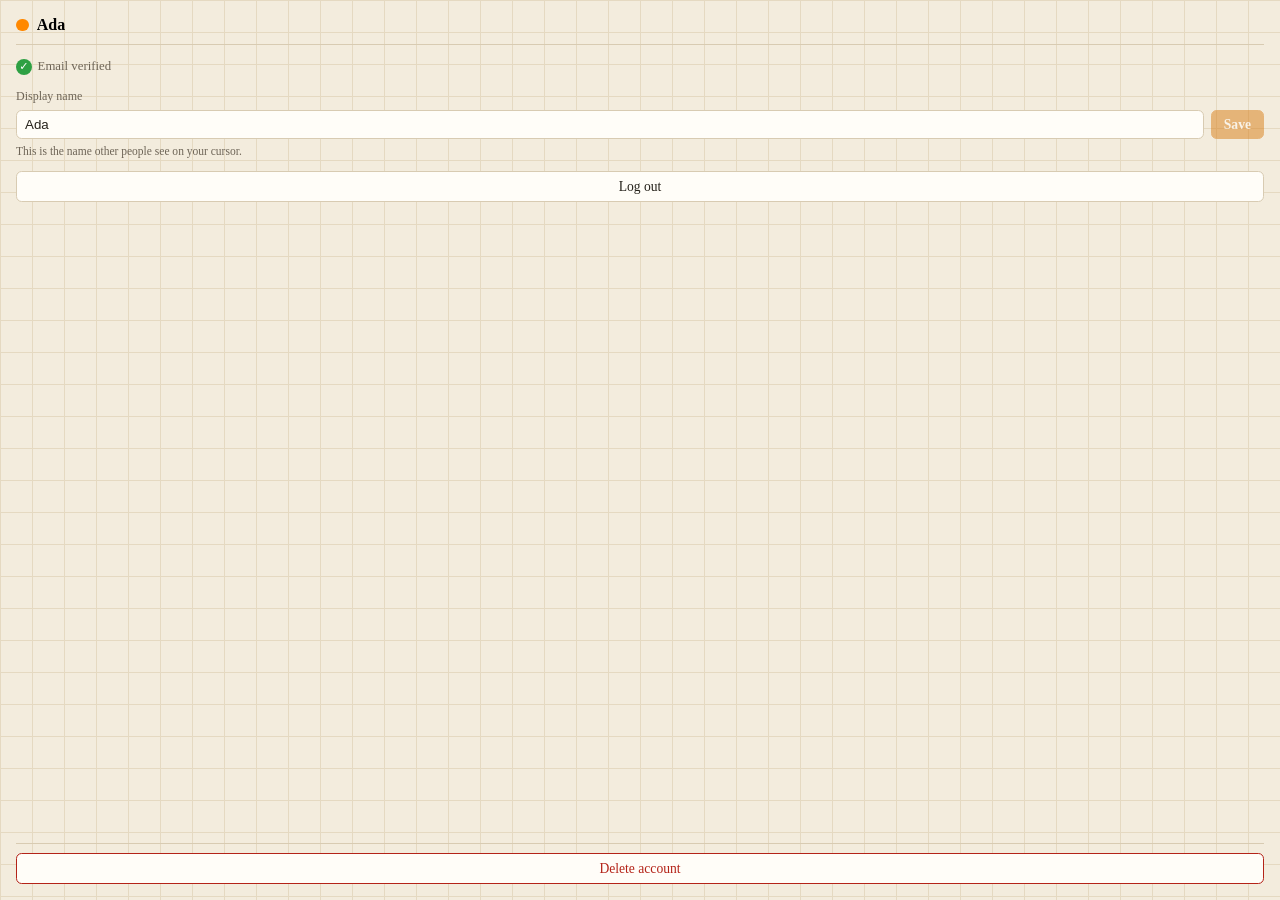
Test: AccountTab deletion › can be backed out of
The width and height of the screenshot is (1280, 900).
Click the button "Delete account" at coordinates (640, 869), box [16,853,1264,884]
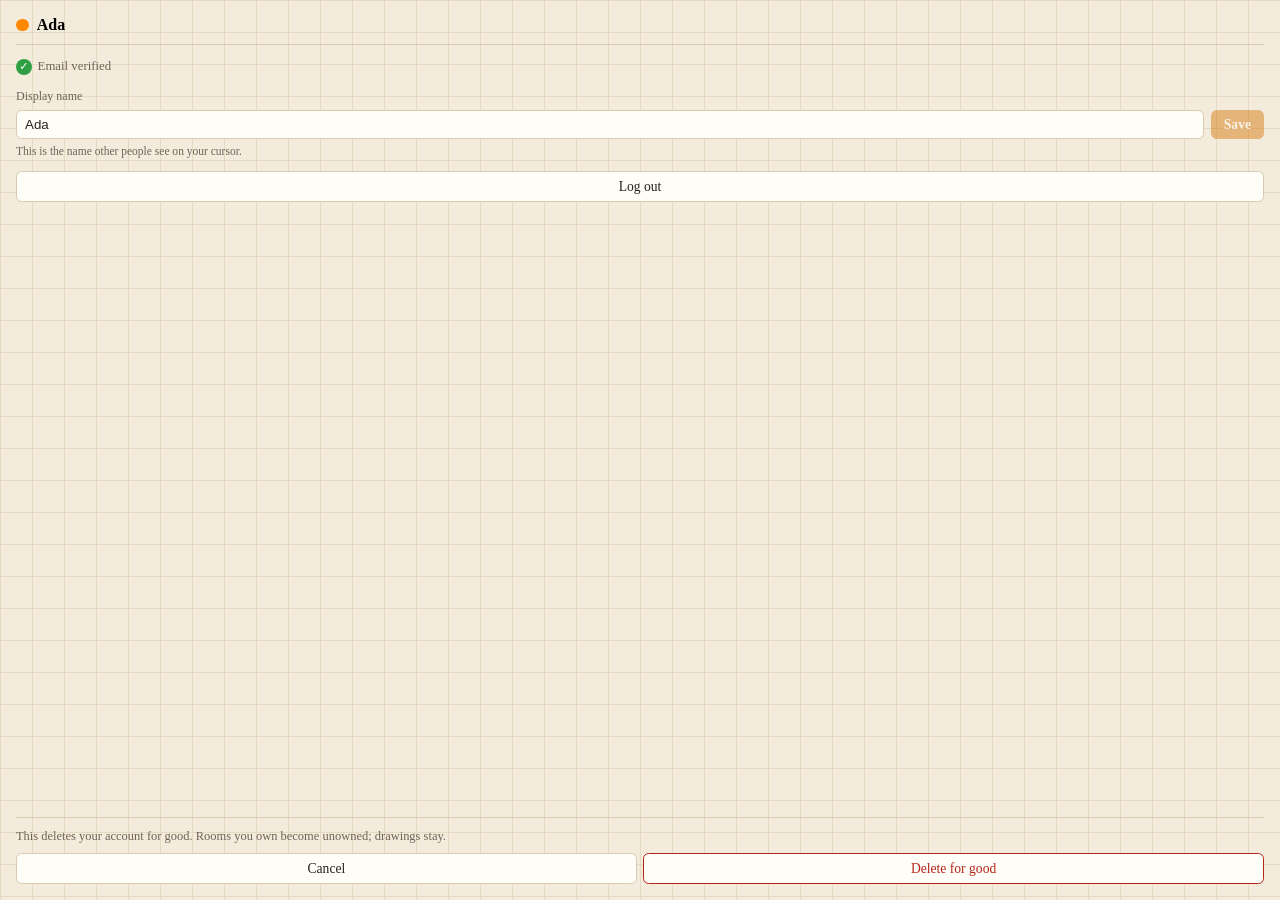
Click the button "Cancel" at coordinates (326, 869), box [16,853,637,884]
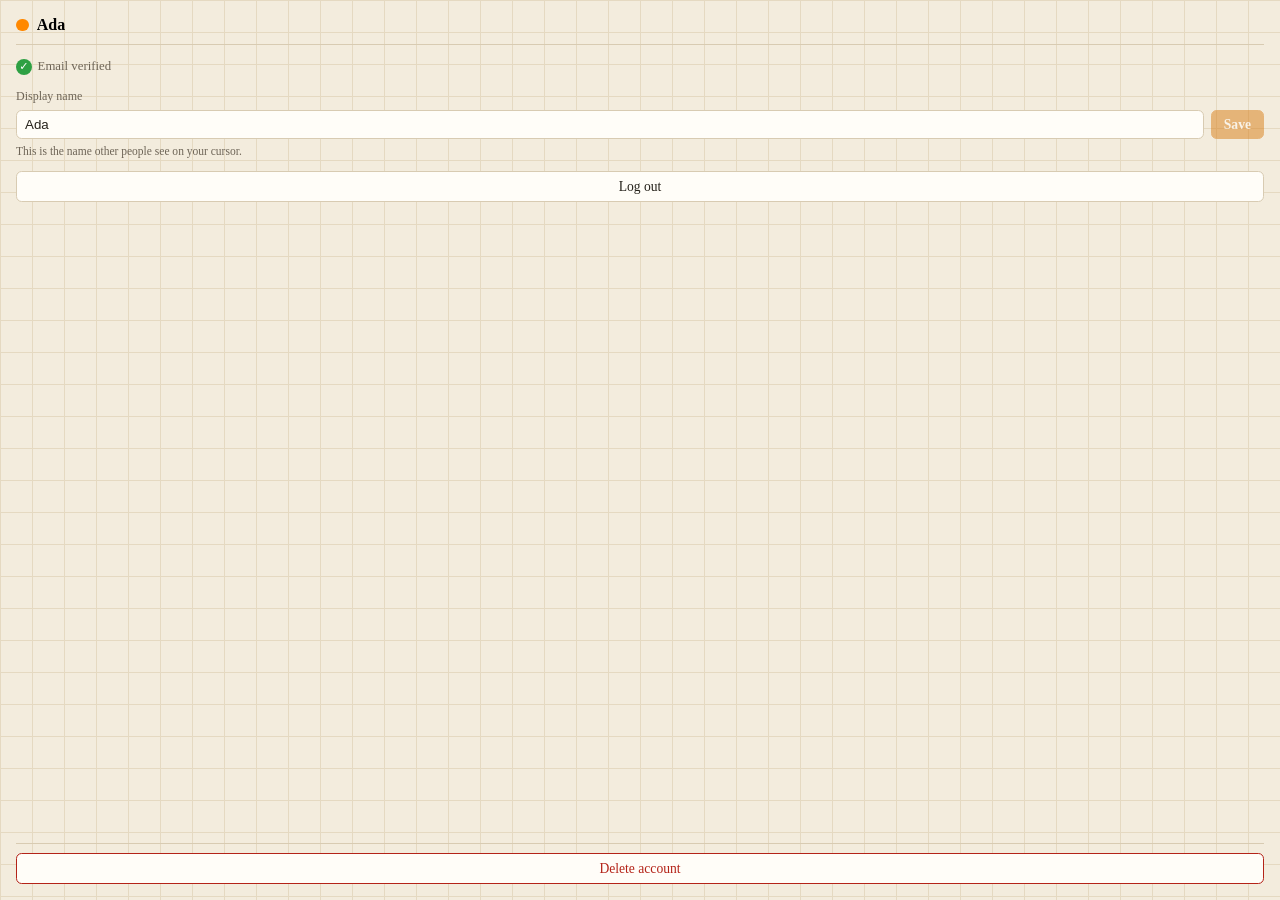
Now the button "Delete account" is shown, box [16,853,1264,884]
